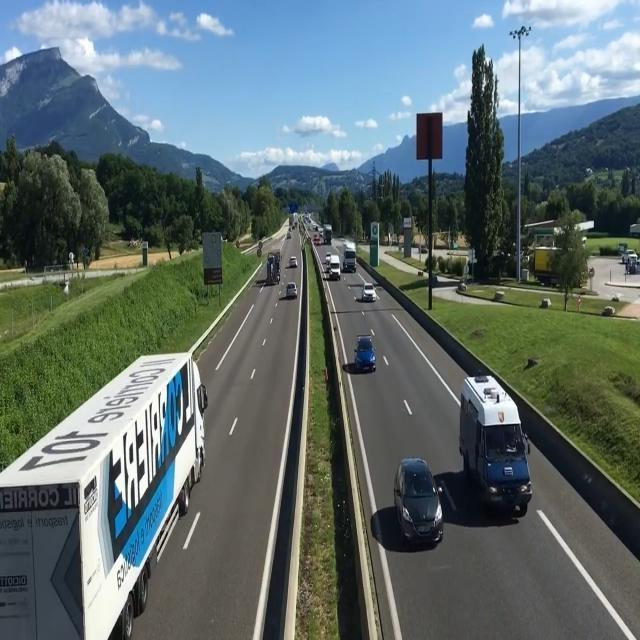Car: (392, 458, 444, 546), (352, 336, 378, 373), (362, 282, 377, 303), (286, 281, 298, 298), (288, 255, 298, 267), (326, 252, 332, 263)
Truck: (0, 350, 208, 640), (265, 250, 281, 287), (342, 242, 358, 272), (322, 223, 333, 243)
Van: (459, 372, 533, 520), (330, 255, 341, 279)
